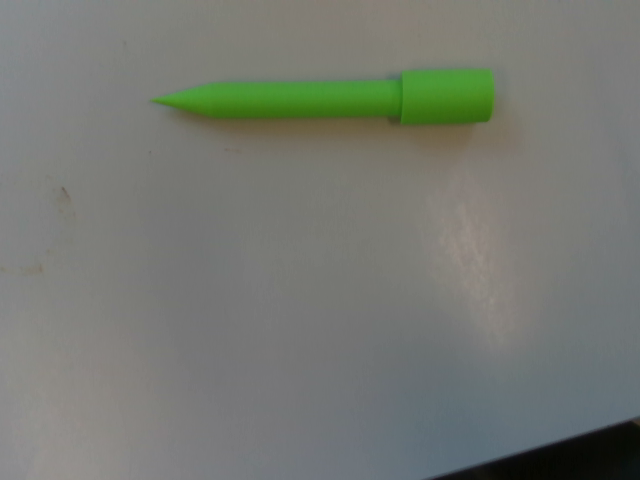Probe: (143, 58, 507, 134)
